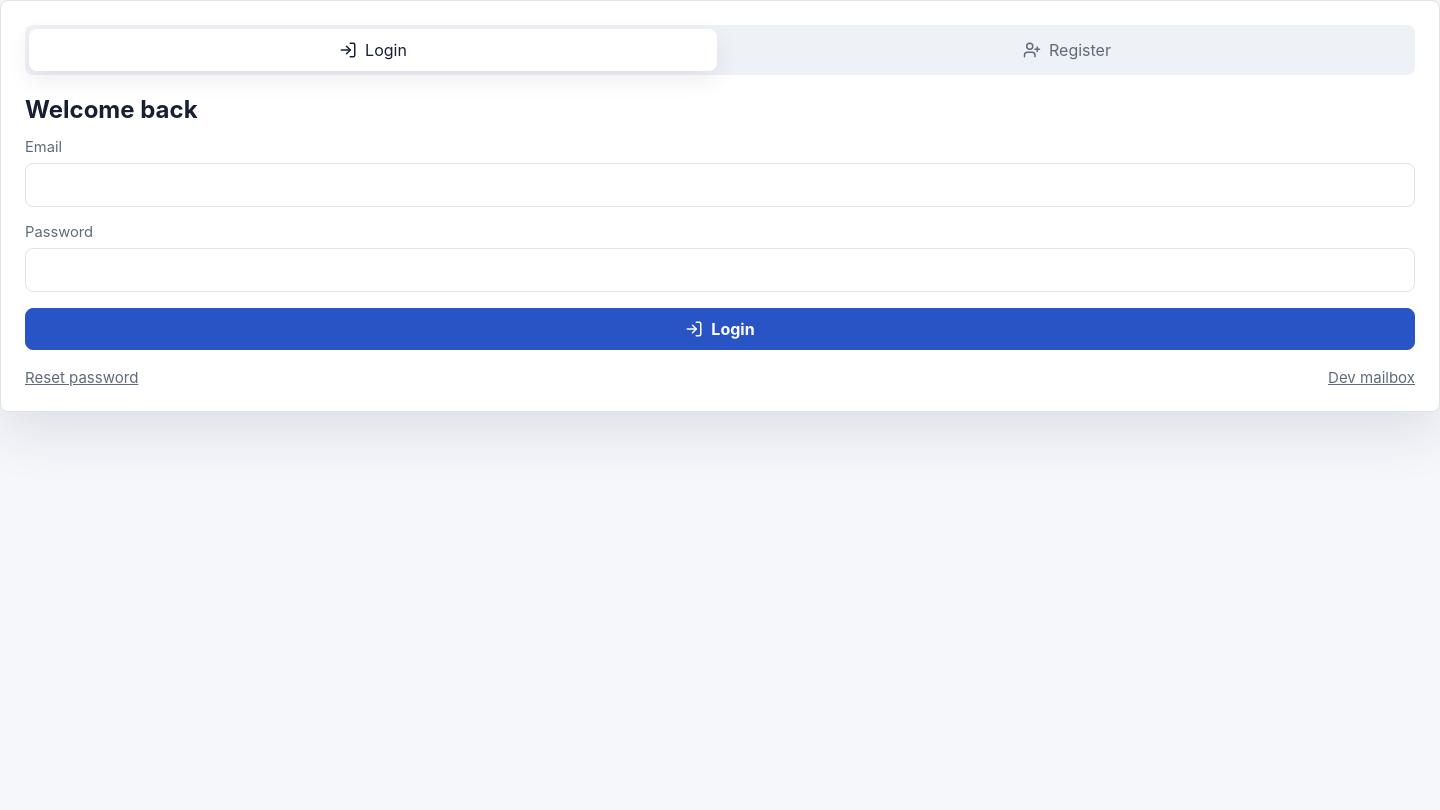
AuthPanel › submits a registration request with CSRF protection
Click the tab "Register" at (1067, 50), box [723,29,1411,71]
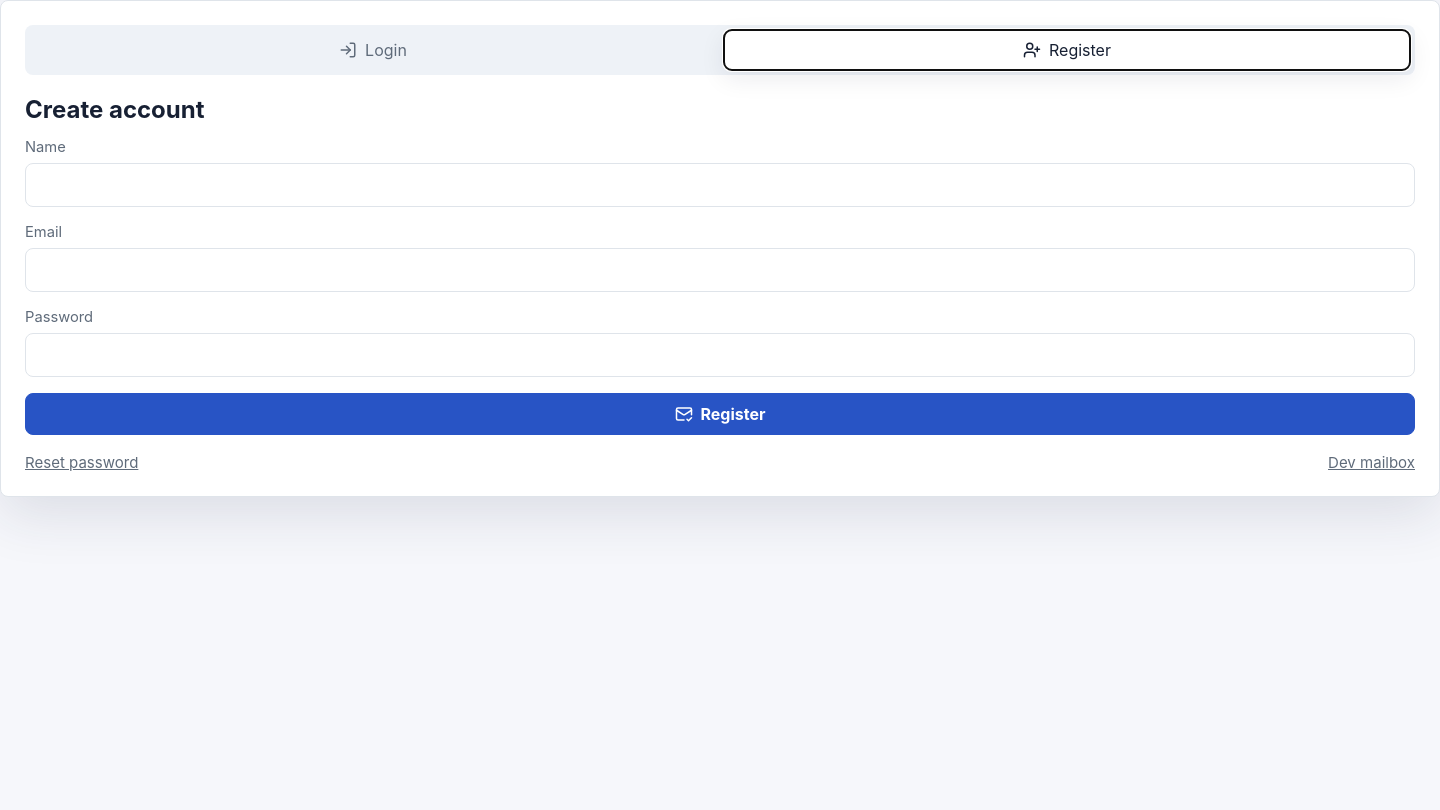
Type "Test User" into the field labelled "Name" at (720, 185), box [25,163,1415,207]
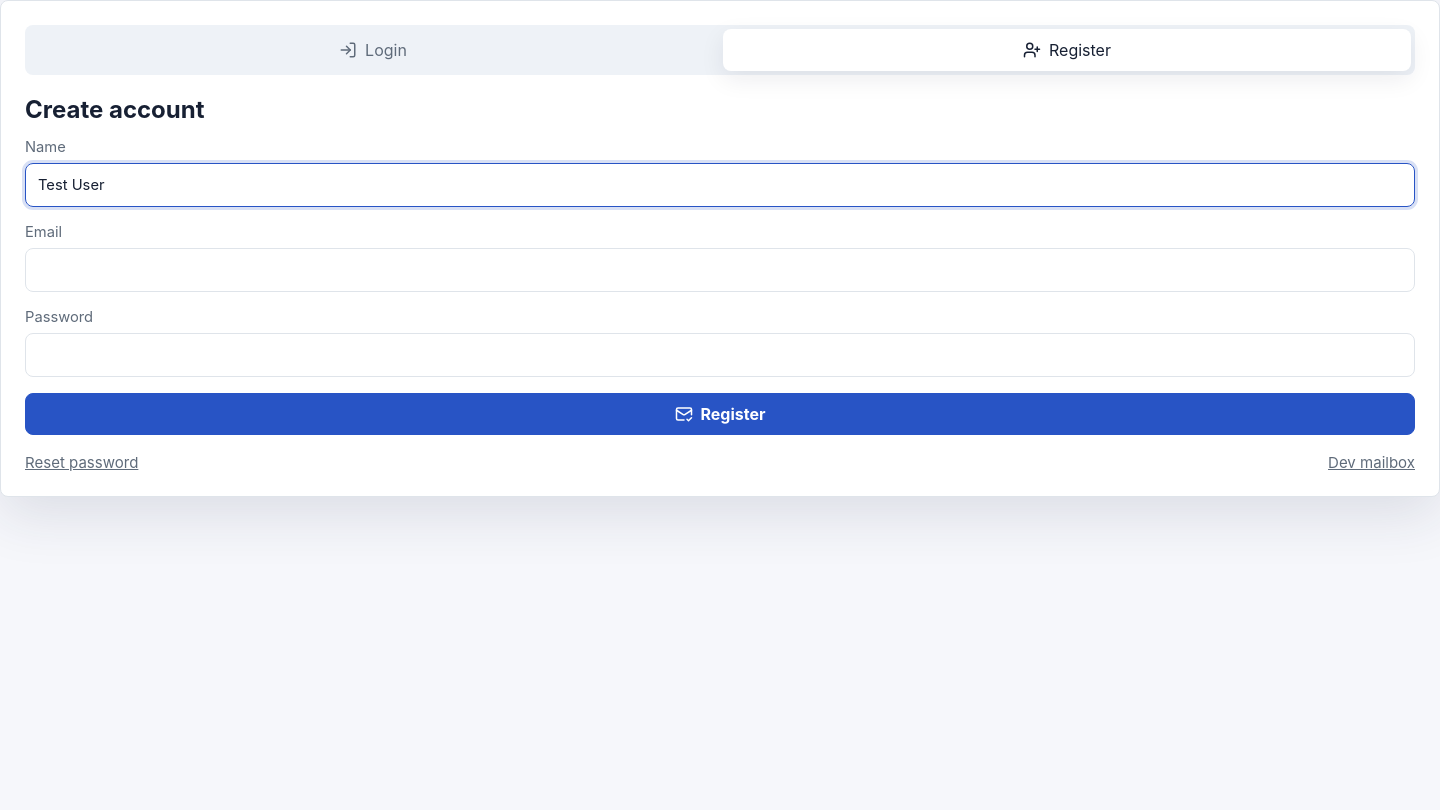
Type "test@example.com" into the field labelled "Email" at (720, 270), box [25,248,1415,292]
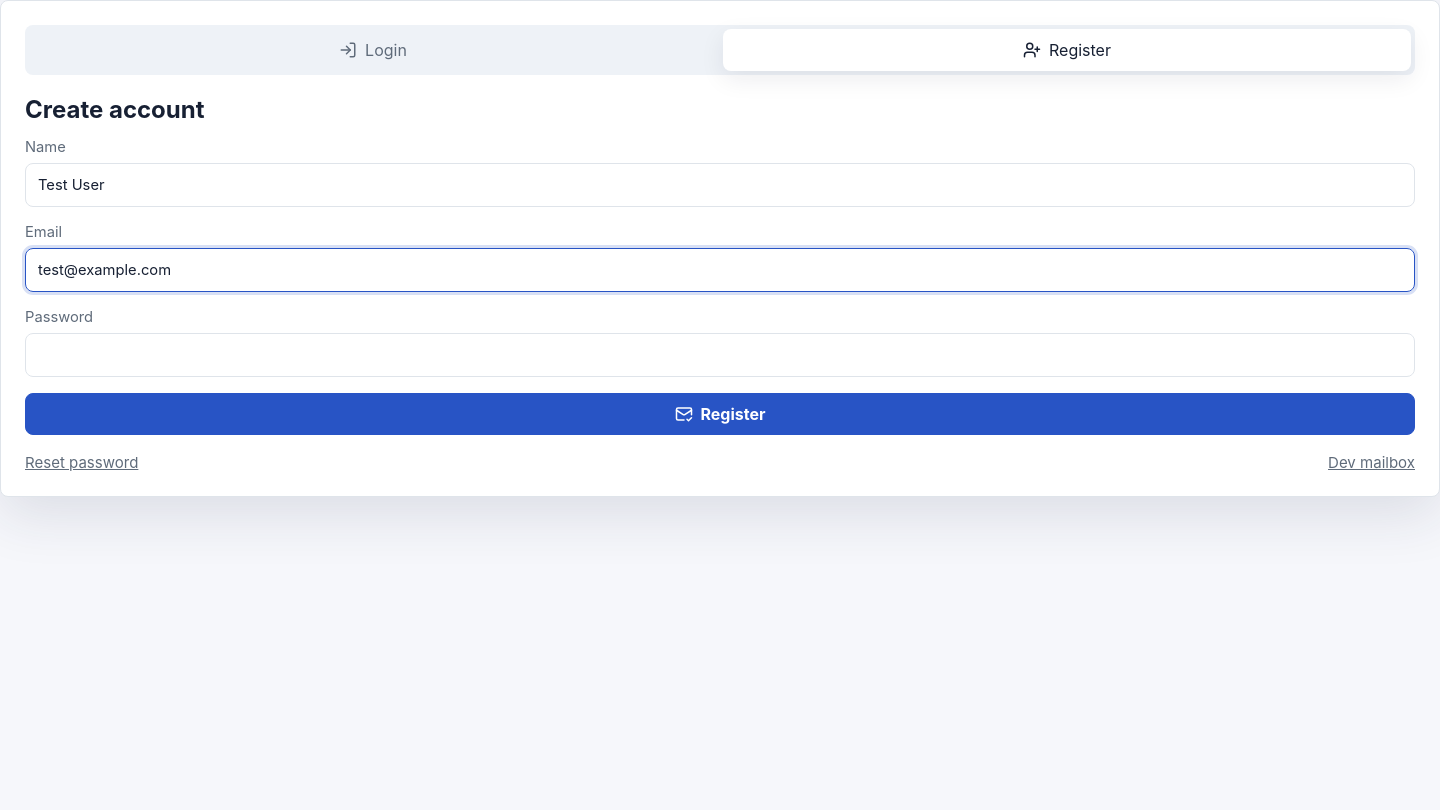
Type "StrongPassword123" into the password field labelled "Password" at (720, 355), box [25,333,1415,377]
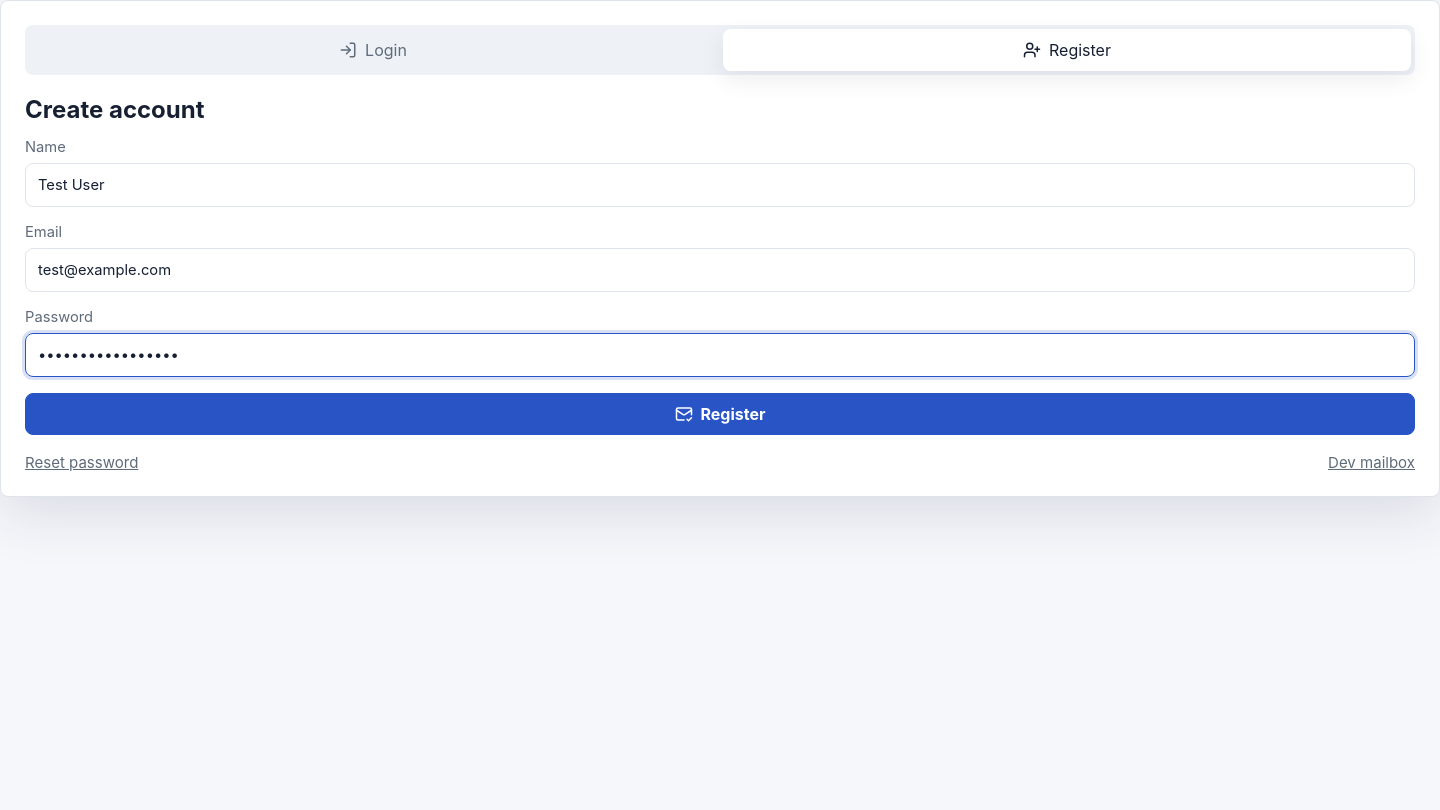
Click the button "Register" at (720, 414), box [25,393,1415,435]
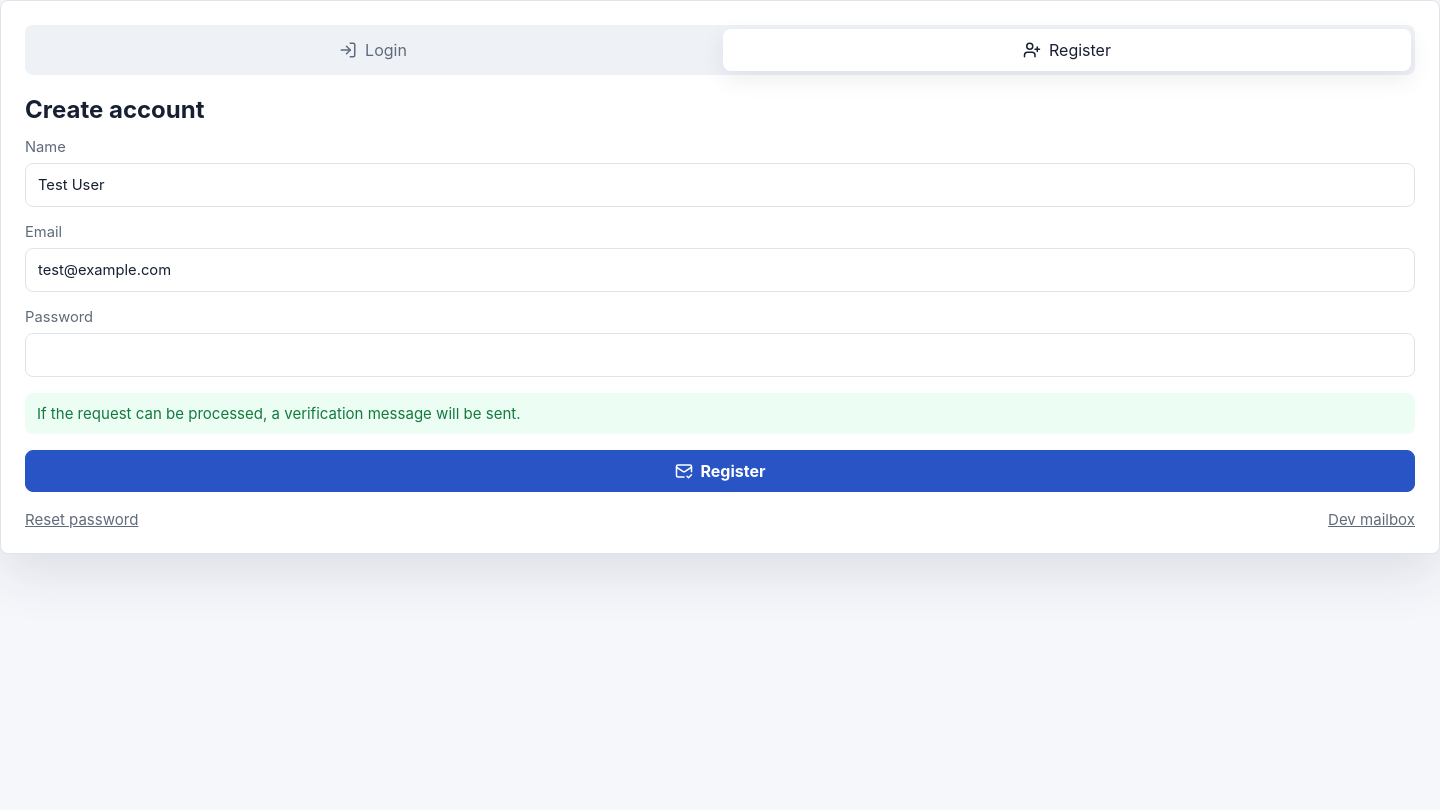
Now the text "verification message" is shown, box [37,404,521,423]
